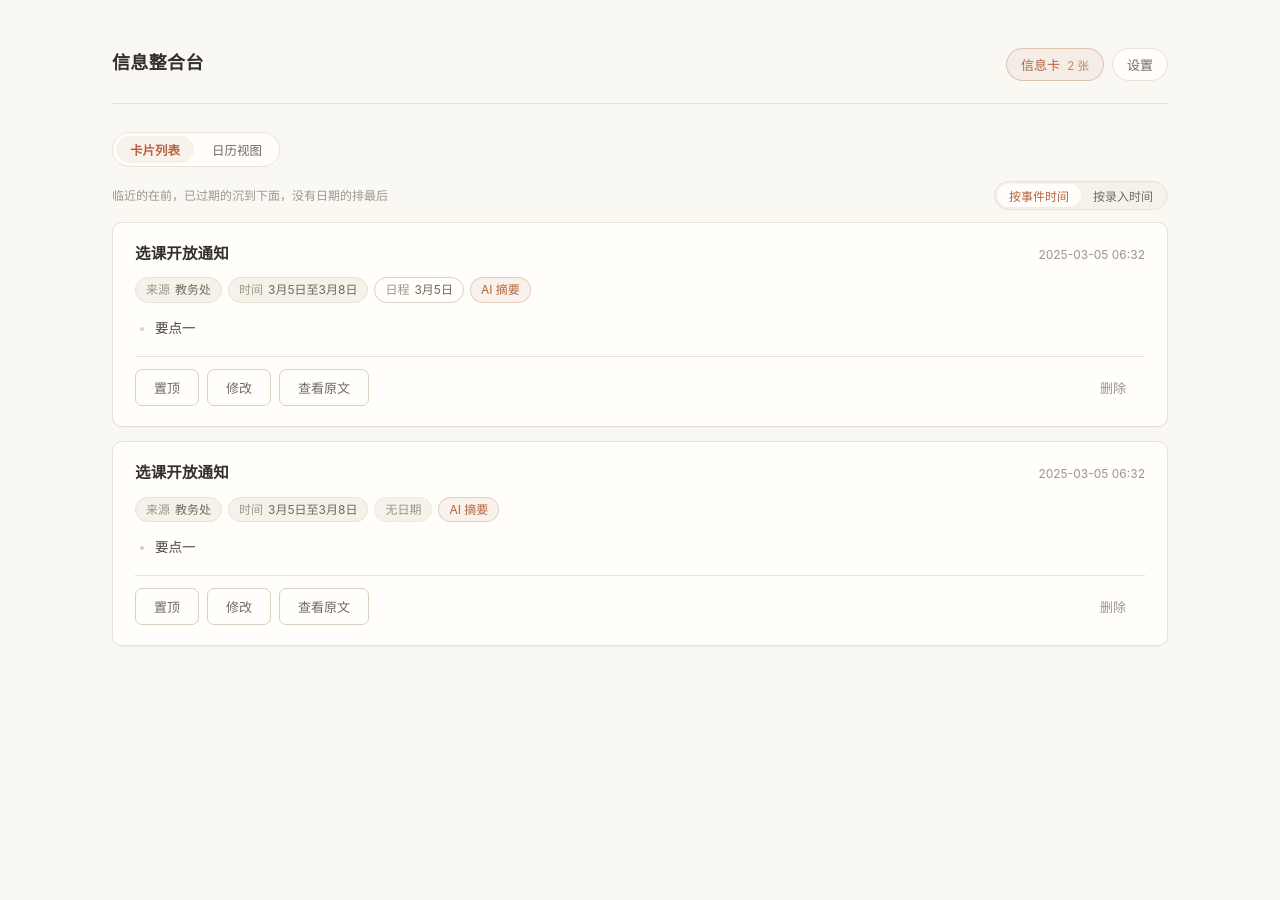
Test case: 视图切换 › 页头计数在日历视图改为显示有日期的条数
What coordinates should you click on to do the following:
click the tab "日历视图"
I would click on:
 (237, 150)
Its box is x1=198 y1=136 x2=276 y2=163.
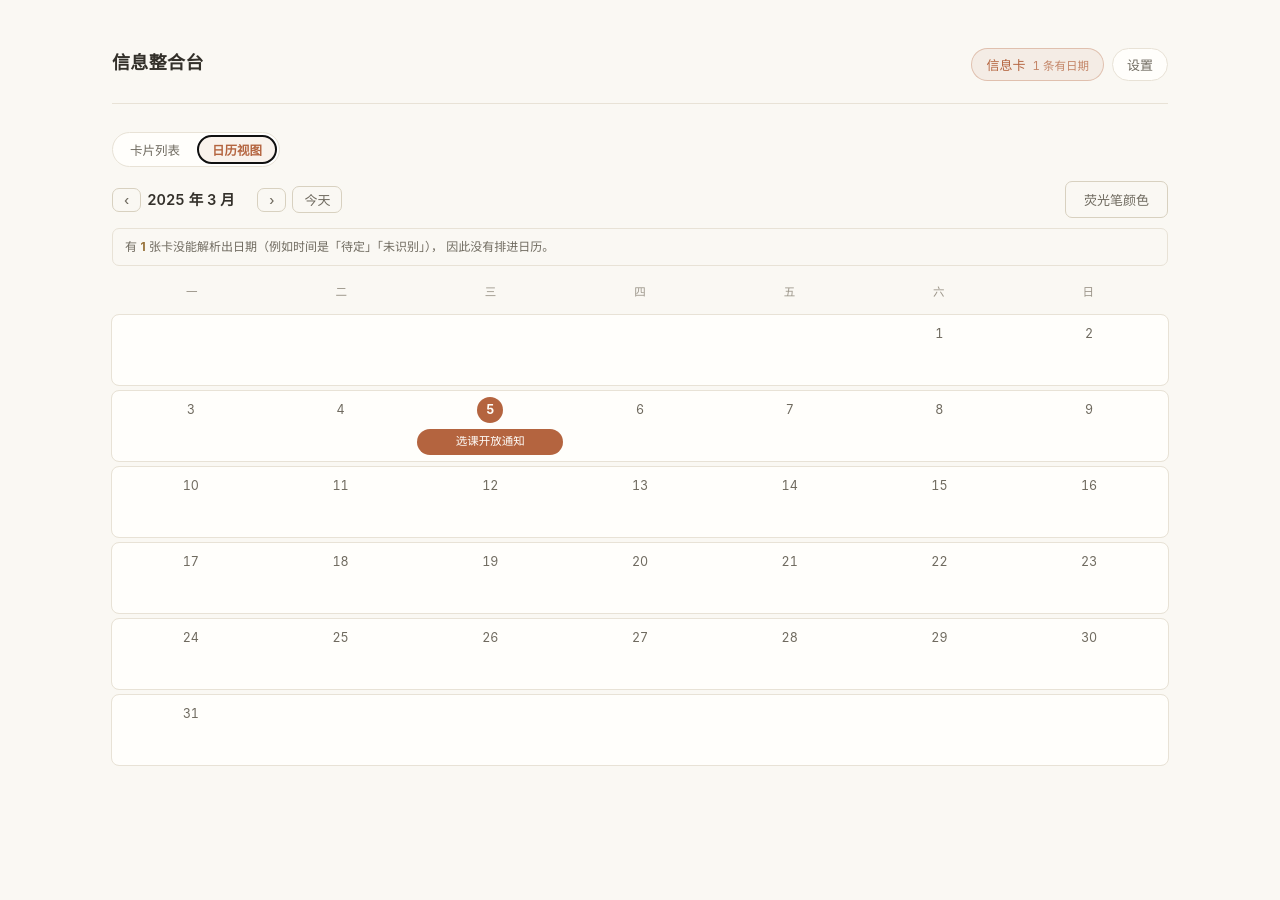
Expected: the text "1 条有日期" is shown, x1=1032 y1=56 x2=1089 y2=72
